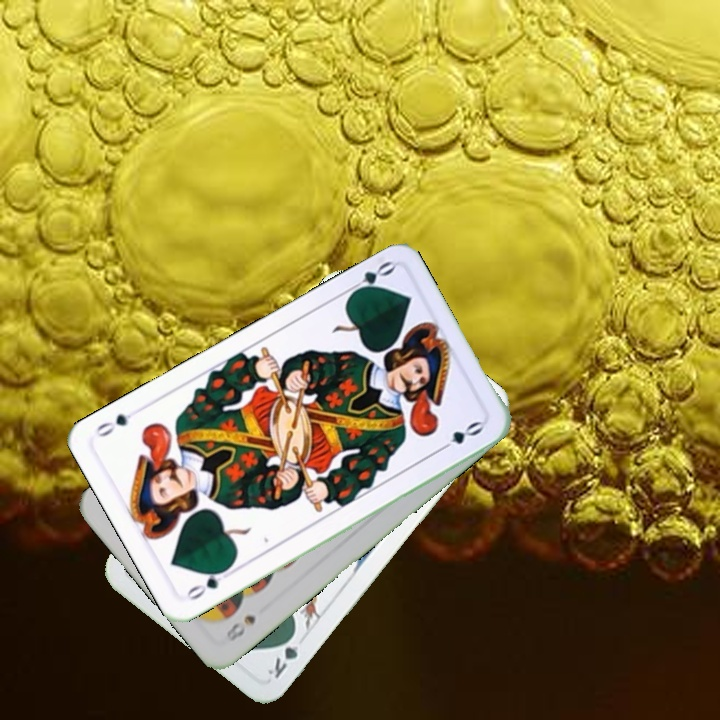GK: (263, 627, 301, 681)
GO: (342, 257, 397, 299), (181, 563, 233, 603)
S8: (222, 610, 259, 645)
